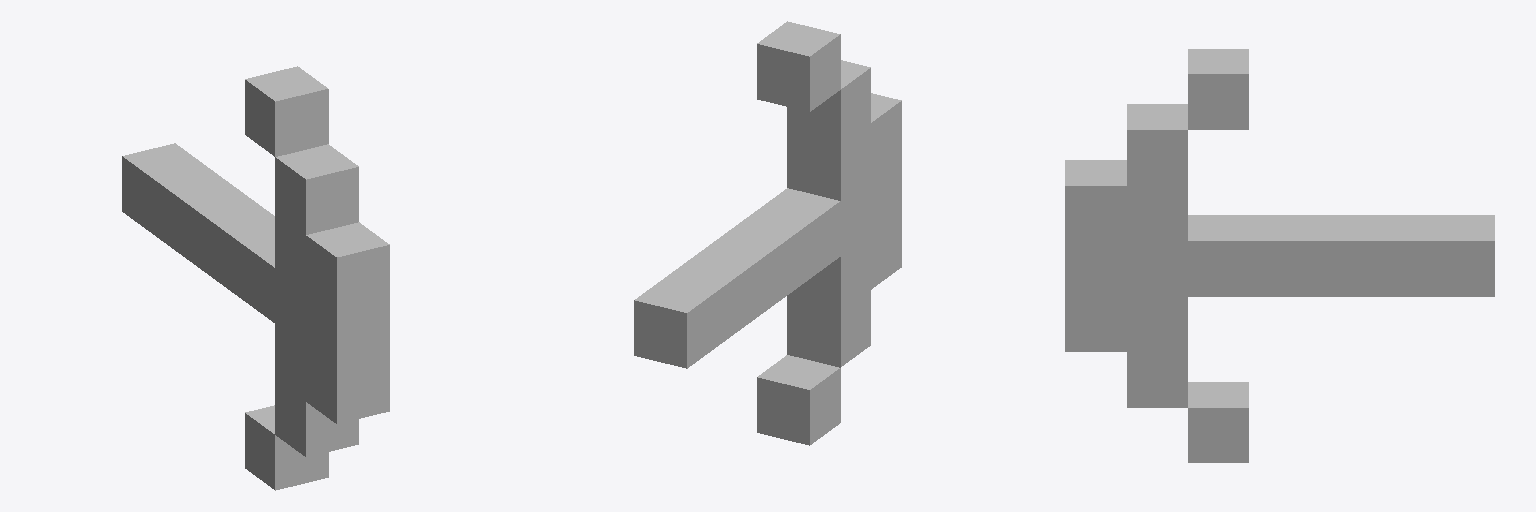
Rendered from kirka z.obj.
3 renders of one model, left to right at view 1: azimuth 30°, elevation 25°; view 2: azimuth 150°, elevation 25°; view 3: azimuth 270°, elevation 25°, orthographic.
Size of the model in its own units: 1 by 7 by 7.